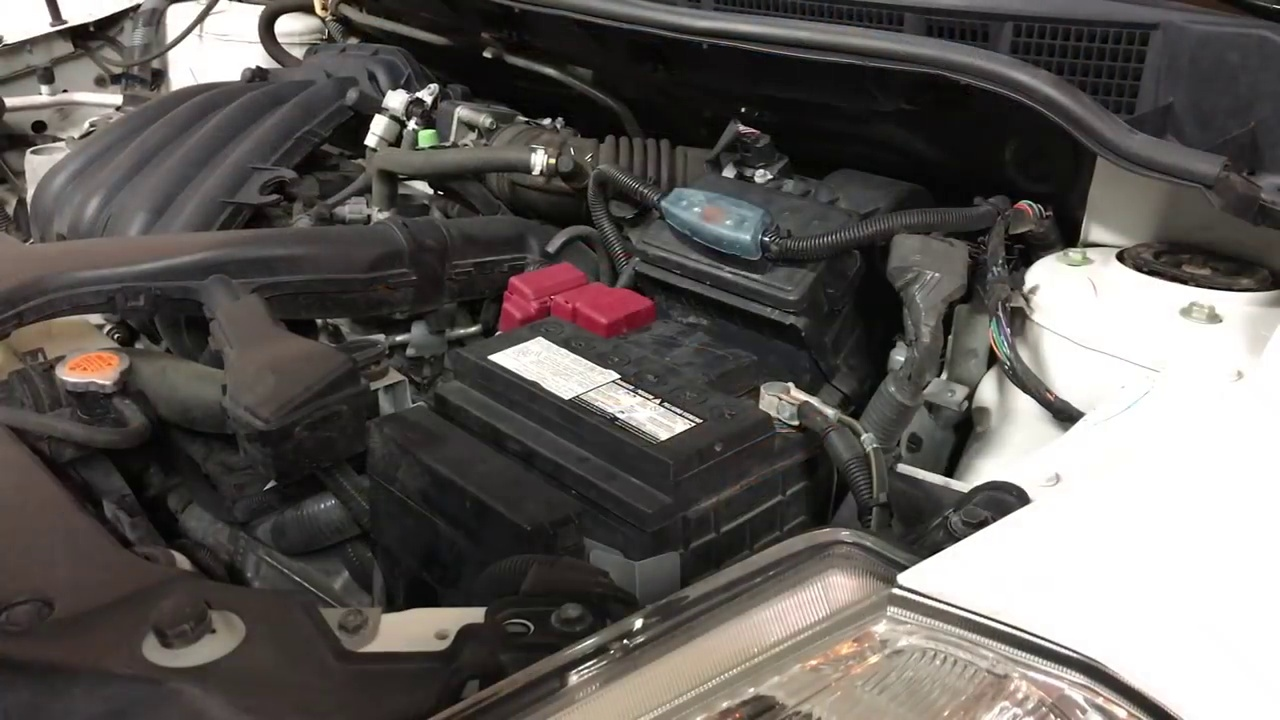battery: (448, 277, 829, 489)
neg_connected: (745, 360, 838, 450)
pos_connected: (480, 259, 641, 345)
